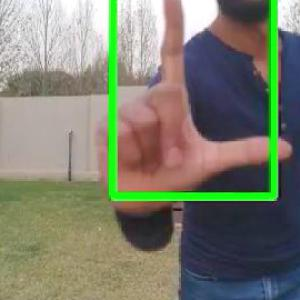land_hand: (90, 0, 286, 210)
